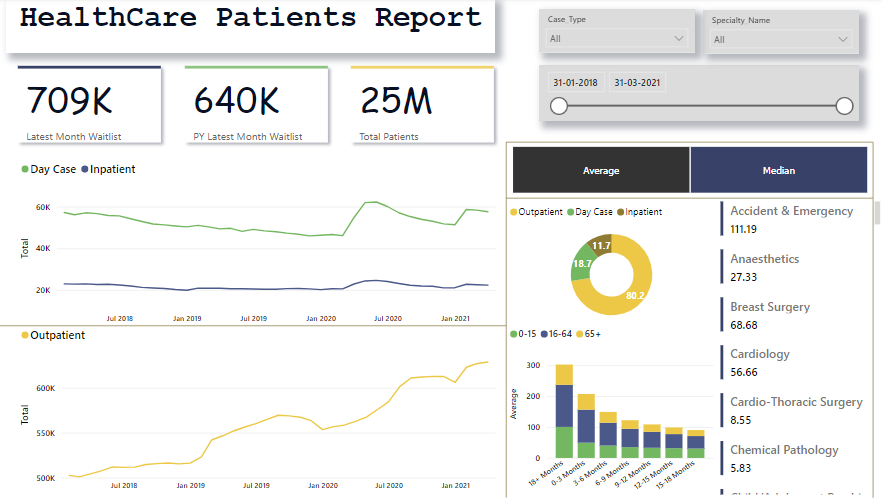

This screenshot's page, from the dashboard's own definition file:
{"tool":"powerbi","page":{"name":"Summary","canvas":[1280,720],"ordinal":0},"visuals":[{"type":"cardVisual","fields":{"Data":["DAX Measures.Latest Month Waitlist"]},"box":[16,80,240,144],"z":0},{"type":"cardVisual","fields":{"Data":["DAX Measures.PY Latest Month Waitlist"]},"box":[256,80,240,144],"z":1000},{"type":"donutChart","fields":{"Y":["DAX Measures.Average Waitlist"],"Category":["All_Data.Case_Type"]},"box":[736,288,304,192],"z":2000},{"type":"columnChart","fields":{"Y":["DAX Measures.Average Waitlist"],"Category":["All_Data.Time_Bands"],"Series":["All_Data.Age_Profile"]},"box":[736,464,304,256],"z":4000},{"type":"multiRowCard","fields":{"Values":["All_Data.Specialty_Name","DAX Measures.Average Waitlist"]},"box":[1040,288,240,432],"z":5000},{"type":"lineChart","fields":{"Category":["All_Data.Archive_Date"],"Series":["All_Data.Case_Type"],"Y":["Sum(All_Data.Total)"]},"box":[31.7,224.6,704.2,254.9],"z":6000},{"type":"lineChart","fields":{"Category":["All_Data.Archive_Date"],"Series":["All_Data.Case_Type"],"Y":["Sum(All_Data.Total)"]},"box":[32,464,704,256],"z":7000},{"type":"slicer","fields":{"Values":["All_Data.Archive_Date"]},"box":[783.4,96.5,460.8,80.6],"z":8000},{"type":"slicer","fields":{"Values":["All_Data.Case_Type"]},"box":[783.4,15.8,224.6,63.4],"z":9000},{"type":"slicer","fields":{"Values":["All_Data.Specialty_Name"]},"box":[1019.5,17.3,224.6,63.4],"z":10000},{"type":"textbox","box":[15.8,0,704.2,79.2],"z":11000},{"type":"cardVisual","fields":{"Data":["Sum(All_Data.Total)"]},"box":[496,80,240,144],"z":12000},{"type":"shape","box":[688,208,96,512],"z":14000},{"type":"shape","box":[736,256,528,64],"z":15000},{"type":"shape","box":[1248,208,32,512],"z":16000},{"type":"slicer","fields":{"Values":["Metrics.Metrics"]},"box":[720,208,560,80],"z":17001},{"type":"shape","box":[0,448,736,48],"z":17002},{"type":"shape","box":[736,176,528,64],"z":17003}]}

Visuals, with their boxes in screenshot pixels (x1, y1, x2, y2), scaled from the page's 1280x720 canvas onto the 882x498 screenshot:
cardVisual - DAX Measures.Latest Month Waitlist: l=11, t=55, r=176, b=155
cardVisual - DAX Measures.PY Latest Month Waitlist: l=176, t=55, r=342, b=155
donutChart - DAX Measures.Average Waitlist x All_Data.Case_Type: l=507, t=199, r=717, b=332
columnChart - DAX Measures.Average Waitlist x All_Data.Time_Bands: l=507, t=321, r=717, b=497
multiRowCard - All_Data.Specialty_Name x DAX Measures.Average Waitlist: l=717, t=199, r=881, b=497
lineChart - All_Data.Archive_Date x All_Data.Case_Type: l=22, t=155, r=507, b=332
lineChart - All_Data.Archive_Date x All_Data.Case_Type: l=22, t=321, r=507, b=497
slicer - All_Data.Archive_Date: l=540, t=67, r=857, b=122
slicer - All_Data.Case_Type: l=540, t=11, r=695, b=55
slicer - All_Data.Specialty_Name: l=702, t=12, r=857, b=56
textbox: l=11, t=0, r=496, b=55
cardVisual - Sum(All_Data.Total): l=342, t=55, r=507, b=155
shape: l=474, t=144, r=540, b=497
shape: l=507, t=177, r=871, b=221
shape: l=860, t=144, r=881, b=497
slicer - Metrics.Metrics: l=496, t=144, r=881, b=199
shape: l=0, t=310, r=507, b=343
shape: l=507, t=122, r=871, b=166
